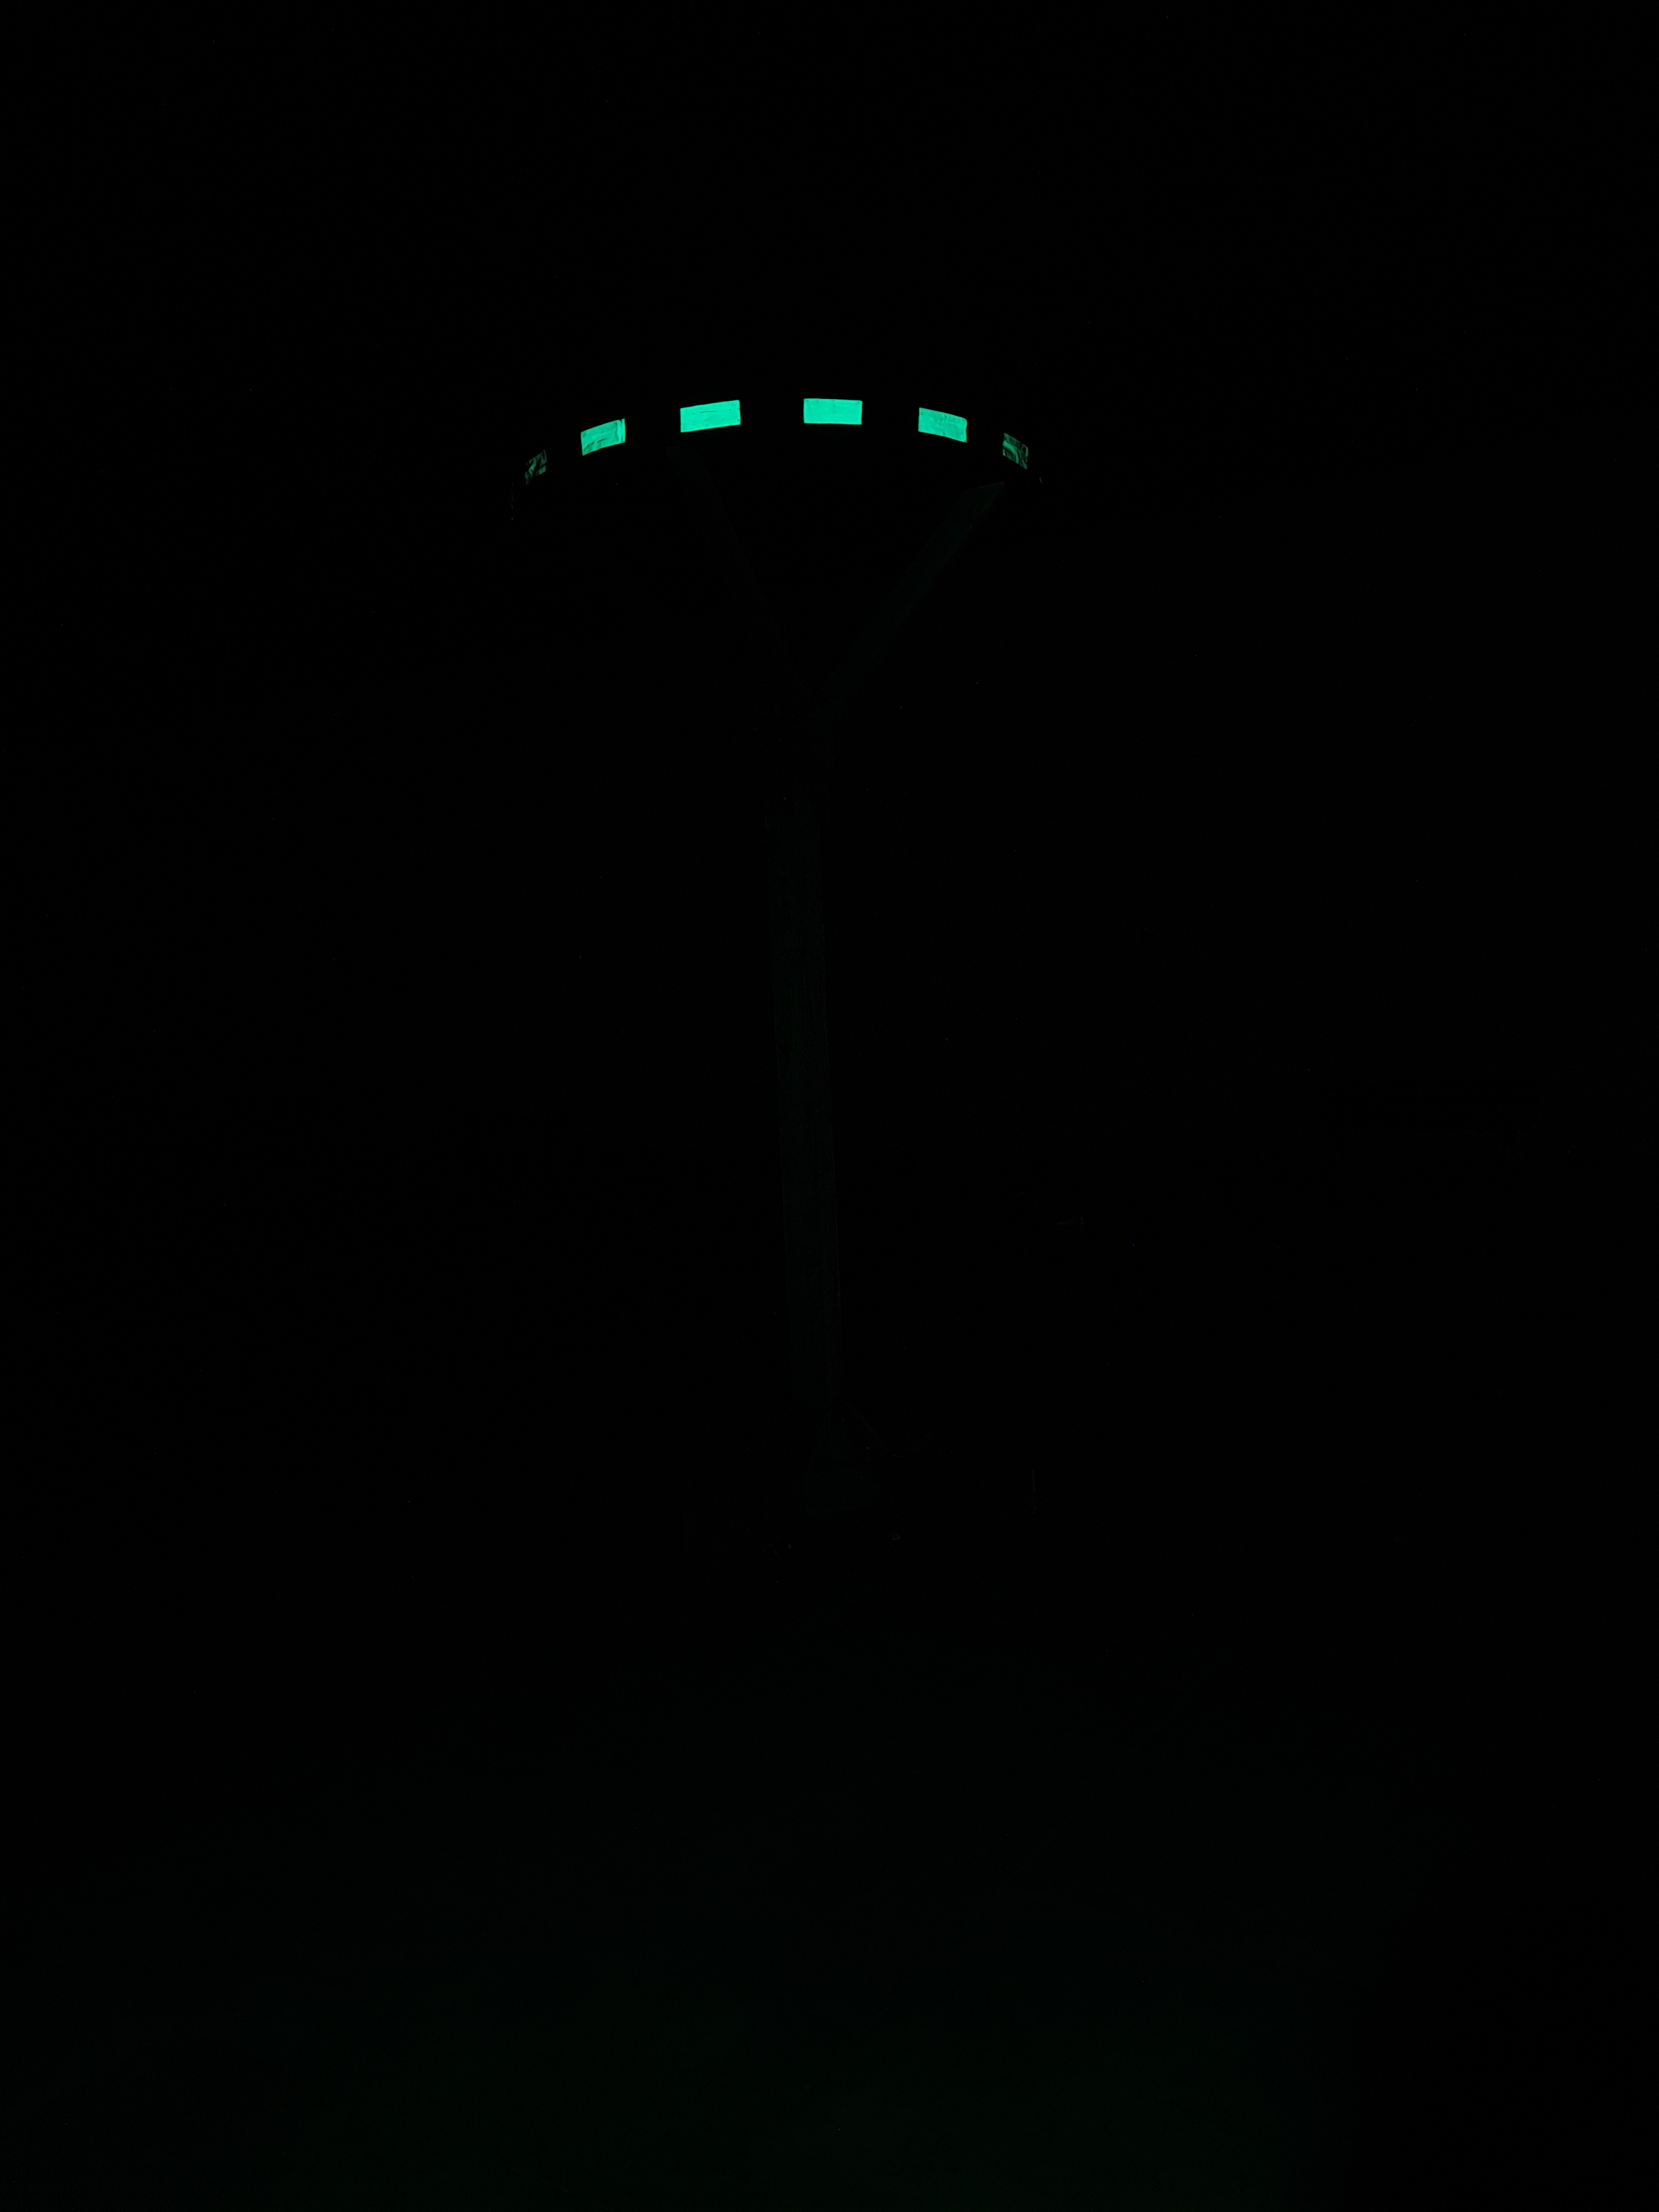hoop: (502, 364, 1051, 500)
